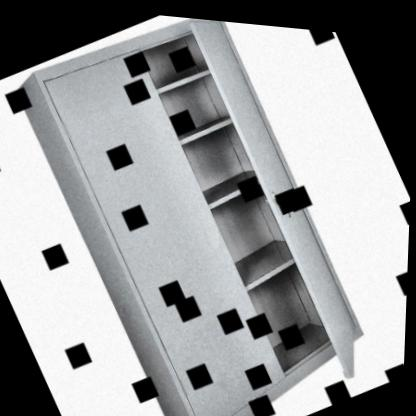Cupboard: (3, 1, 388, 416)
